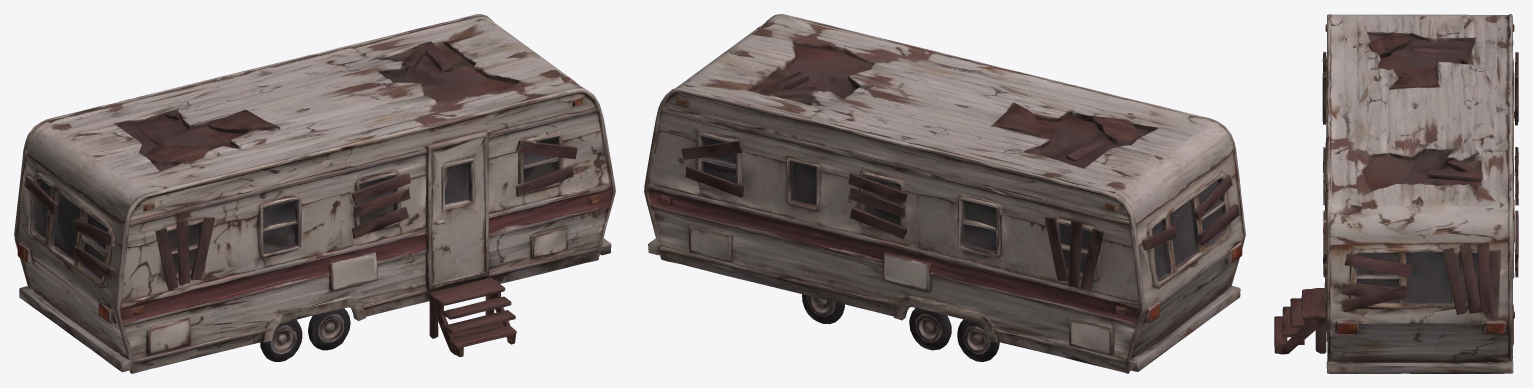
Rendered from house_trailer_c_idle.glb.
3 views of the same model, side by side, from view 1: azimuth 30°, elevation 25°; view 2: azimuth 150°, elevation 25°; view 3: azimuth 270°, elevation 25° (orthographic). The views are drawn at different scales.
Parts seen in each view (by area): view 1: tripo_node_86f5348c-9ee2-4791-bf7f-9349ae1e80a9; view 2: tripo_node_86f5348c-9ee2-4791-bf7f-9349ae1e80a9; view 3: tripo_node_86f5348c-9ee2-4791-bf7f-9349ae1e80a9.
Part boxes in pixels (bbox=[...]): tripo_node_86f5348c-9ee2-4791-bf7f-9349ae1e80a9: bbox=[14, 14, 615, 373]; tripo_node_86f5348c-9ee2-4791-bf7f-9349ae1e80a9: bbox=[644, 14, 1245, 373]; tripo_node_86f5348c-9ee2-4791-bf7f-9349ae1e80a9: bbox=[1274, 14, 1518, 373].
Bounding box in the file's own units: 10 × 4.05 × 4.65.
Materials: 1 (1 with a texture image).
